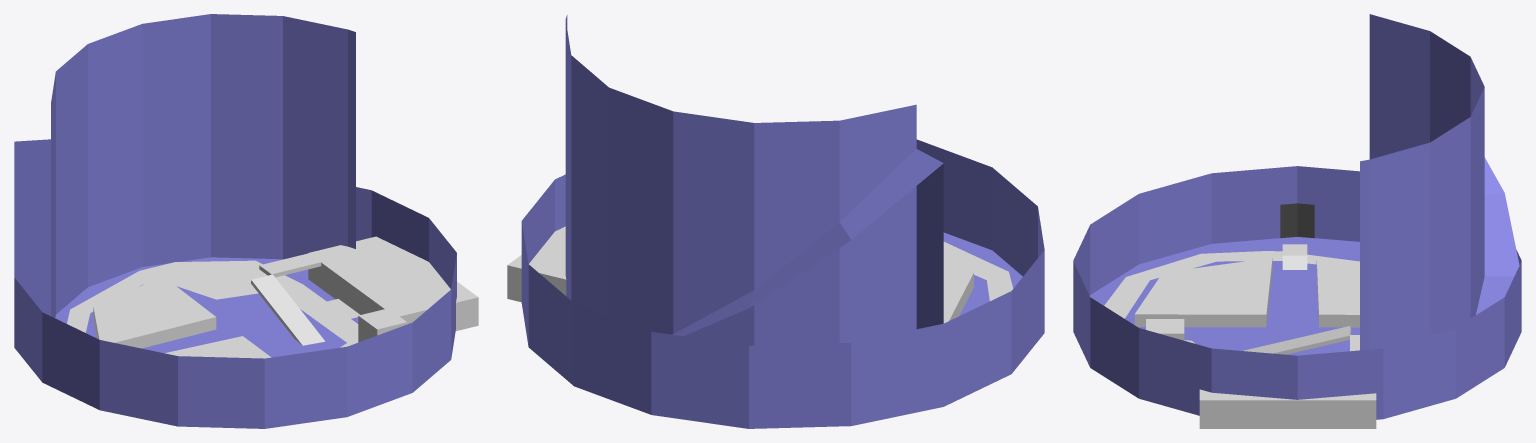
Rendered from Tower.fbx.
3 views of the same model, side by side, from view 1: azimuth 30°, elevation 25°; view 2: azimuth 150°, elevation 25°; view 3: azimuth 270°, elevation 25° (orthographic). The views are drawn at different scales.
Visible parts, largest first — view 1: Staircase, Walls, Cube.002, Ground, Plane, Cube.005, Cube.003, Cube.006, Cube.007, Cube.004; view 2: Staircase, Walls, Cube.002, Ground, Plane, Cube.006; view 3: Walls, Staircase, Ground, Cube.006, Cube.002, Cube.005, Plane, Cube.003, Door, Cube.008, Cube.007.
Boxes of the visible parts, x1=… form: Staircase: x1=14, y1=14, x2=355, y2=317; Walls: x1=14, y1=187, x2=456, y2=428; Cube.002: x1=308, y1=236, x2=478, y2=330; Ground: x1=15, y1=257, x2=450, y2=428; Plane: x1=67, y1=260, x2=359, y2=347; Cube.005: x1=93, y1=276, x2=216, y2=348; Cube.003: x1=251, y1=274, x2=325, y2=345; Cube.006: x1=165, y1=336, x2=271, y2=358; Cube.007: x1=358, y1=308, x2=407, y2=342; Cube.004: x1=259, y1=253, x2=322, y2=277; Staircase: x1=565, y1=15, x2=943, y2=345; Walls: x1=521, y1=139, x2=1044, y2=428; Cube.002: x1=507, y1=226, x2=566, y2=302; Ground: x1=531, y1=232, x2=1044, y2=428; Plane: x1=943, y1=242, x2=1013, y2=300; Cube.006: x1=943, y1=260, x2=973, y2=323; Walls: x1=1073, y1=166, x2=1521, y2=419; Staircase: x1=1360, y1=14, x2=1519, y2=350; Ground: x1=1078, y1=237, x2=1516, y2=419; Cube.006: x1=1134, y1=257, x2=1272, y2=327; Cube.002: x1=1199, y1=389, x2=1376, y2=428; Cube.005: x1=1316, y1=257, x2=1359, y2=327; Plane: x1=1104, y1=251, x2=1359, y2=343; Cube.003: x1=1243, y1=326, x2=1351, y2=354; Door: x1=1280, y1=203, x2=1314, y2=238; Cube.008: x1=1282, y1=244, x2=1307, y2=269; Cube.007: x1=1146, y1=319, x2=1184, y2=340.
Bounding box in the file's own units: 20051 × 12389 × 20000.
